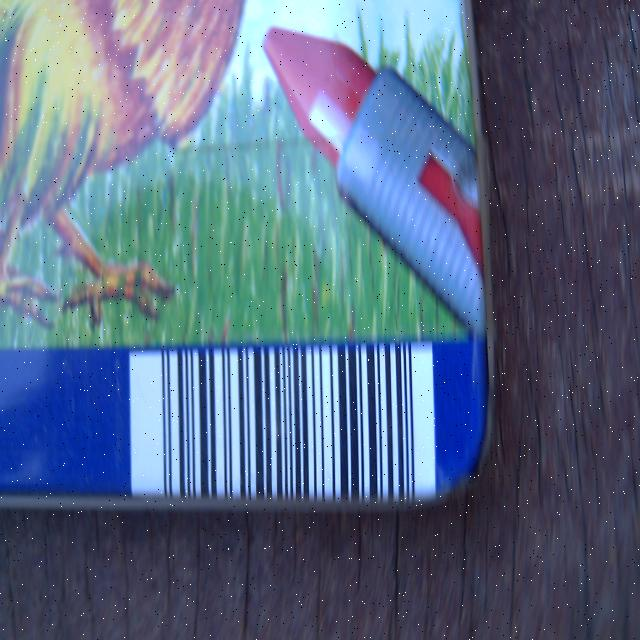barcode: (154, 331, 419, 510)
